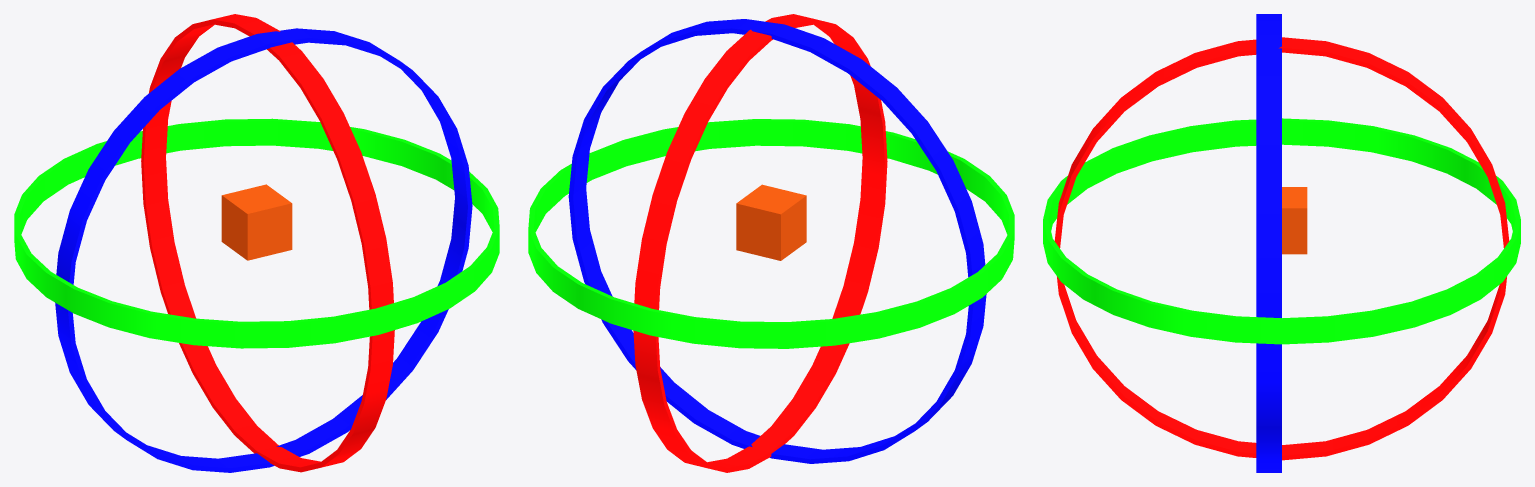
The model's file is RotateGizmo.FBX.
The picture shows the model from 3 angles, left to right: view 1: azimuth 30°, elevation 25°; view 2: azimuth 150°, elevation 25°; view 3: azimuth 270°, elevation 25°; orthographic projection.
Parts seen in each view (by area): view 1: RotatorY, RotatorZ, RotatorX, Center; view 2: RotatorY, RotatorZ, RotatorX, Center; view 3: RotatorY, RotatorZ, RotatorX, Center.
Part boxes in pixels (box(x1,y1,x2,y2)): RotatorY: box(14, 118, 499, 348); RotatorZ: box(141, 14, 394, 472); RotatorX: box(55, 28, 472, 472); Center: box(221, 184, 292, 260); RotatorY: box(528, 119, 1014, 348); RotatorZ: box(633, 14, 887, 472); RotatorX: box(568, 19, 986, 463); Center: box(736, 184, 806, 260); RotatorY: box(1043, 118, 1520, 344); RotatorZ: box(1054, 37, 1509, 460); RotatorX: box(1256, 14, 1281, 472); Center: box(1282, 187, 1307, 254).
Bounding box in the file's own units: 189 × 182 × 189.
